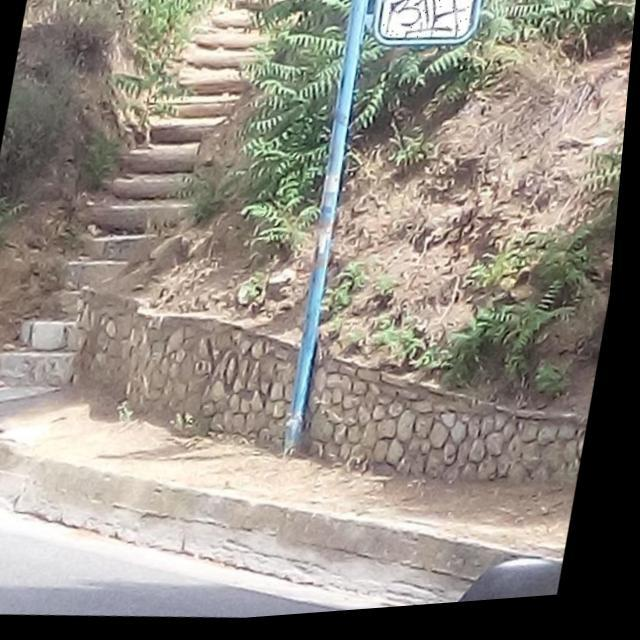-: (382, 0, 472, 49)
